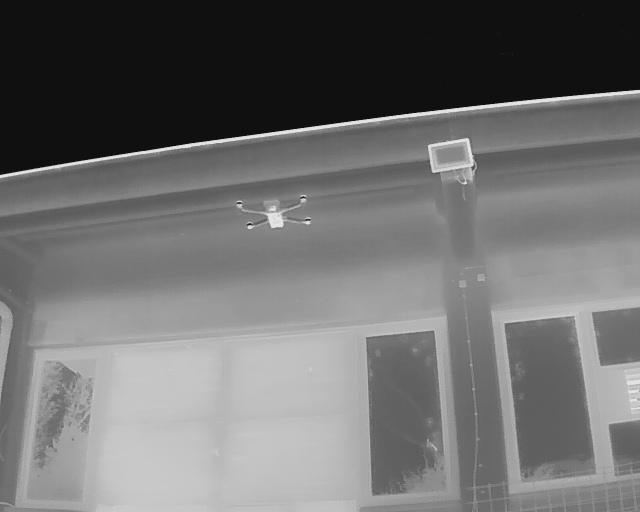drone: (224, 184, 322, 240)
